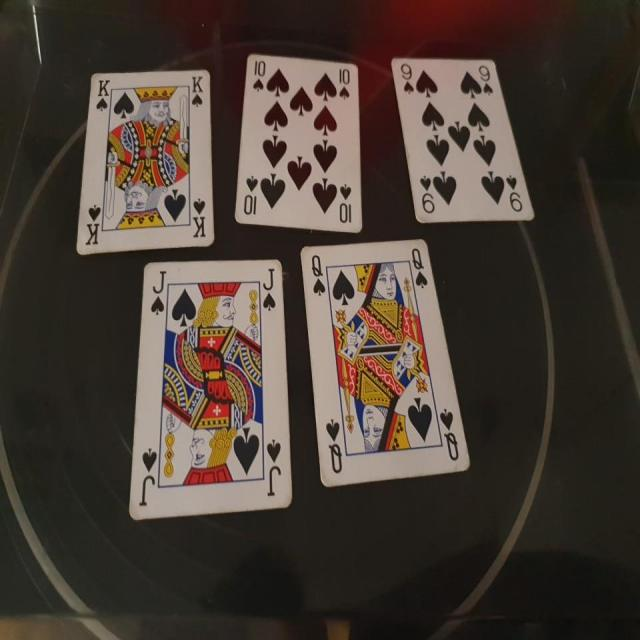10 Spades: (229, 48, 368, 236)
9 Spades: (385, 48, 544, 231)
J Spades: (125, 258, 296, 521)
K Spades: (72, 67, 219, 255)
Q Spades: (296, 230, 478, 491)
